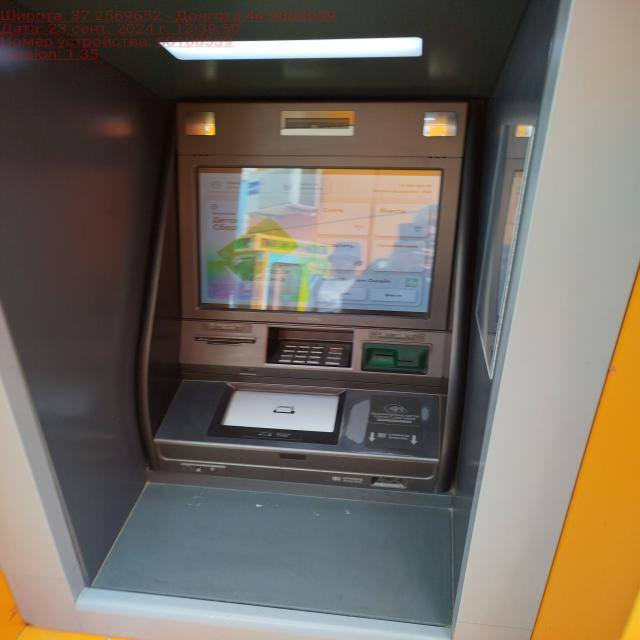bank: (122, 89, 480, 578)
